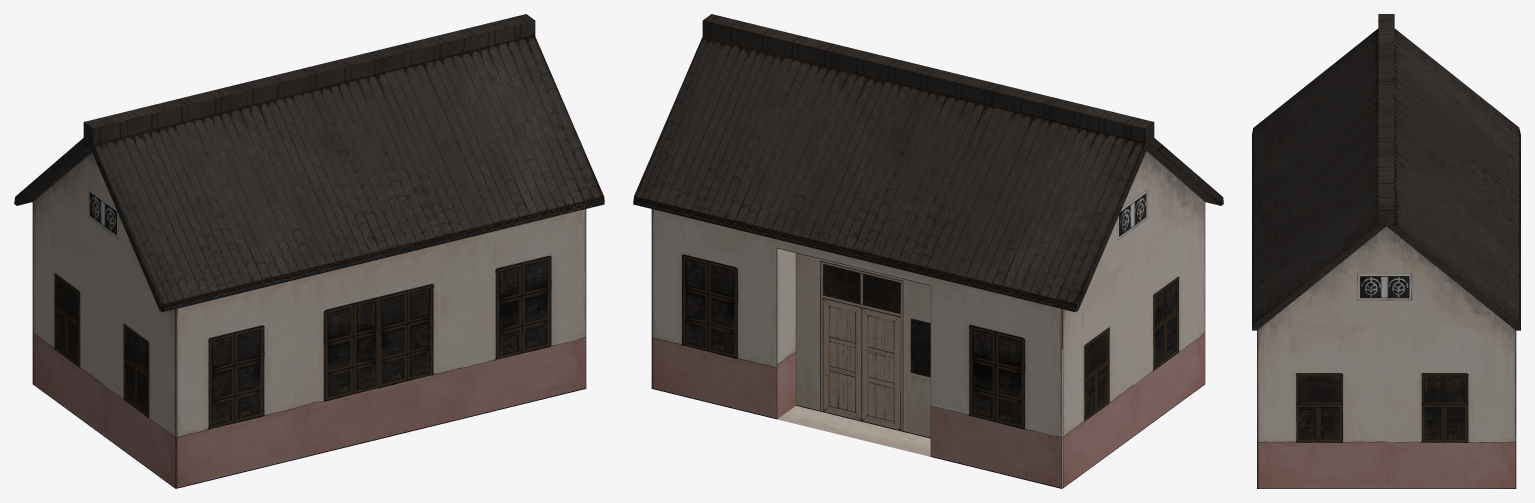
The model's file is fangzi1.fbx.
The picture shows the model from 3 angles, left to right: view 1: azimuth 30°, elevation 25°; view 2: azimuth 150°, elevation 25°; view 3: azimuth 270°, elevation 25°; orthographic projection. The views are drawn at different scales.
Visible parts, largest first — view 1: 平面.001; view 2: 平面.001; view 3: 平面.001.
Boxes of the visible parts, left/top/right/bottom form: 平面.001: left=14, top=14, right=604, bottom=488; 平面.001: left=633, top=14, right=1223, bottom=488; 平面.001: left=1252, top=14, right=1520, bottom=488.
Size of the model in its own units: 177 by 121 by 103.
Materials: 2 (2 with a texture image).
